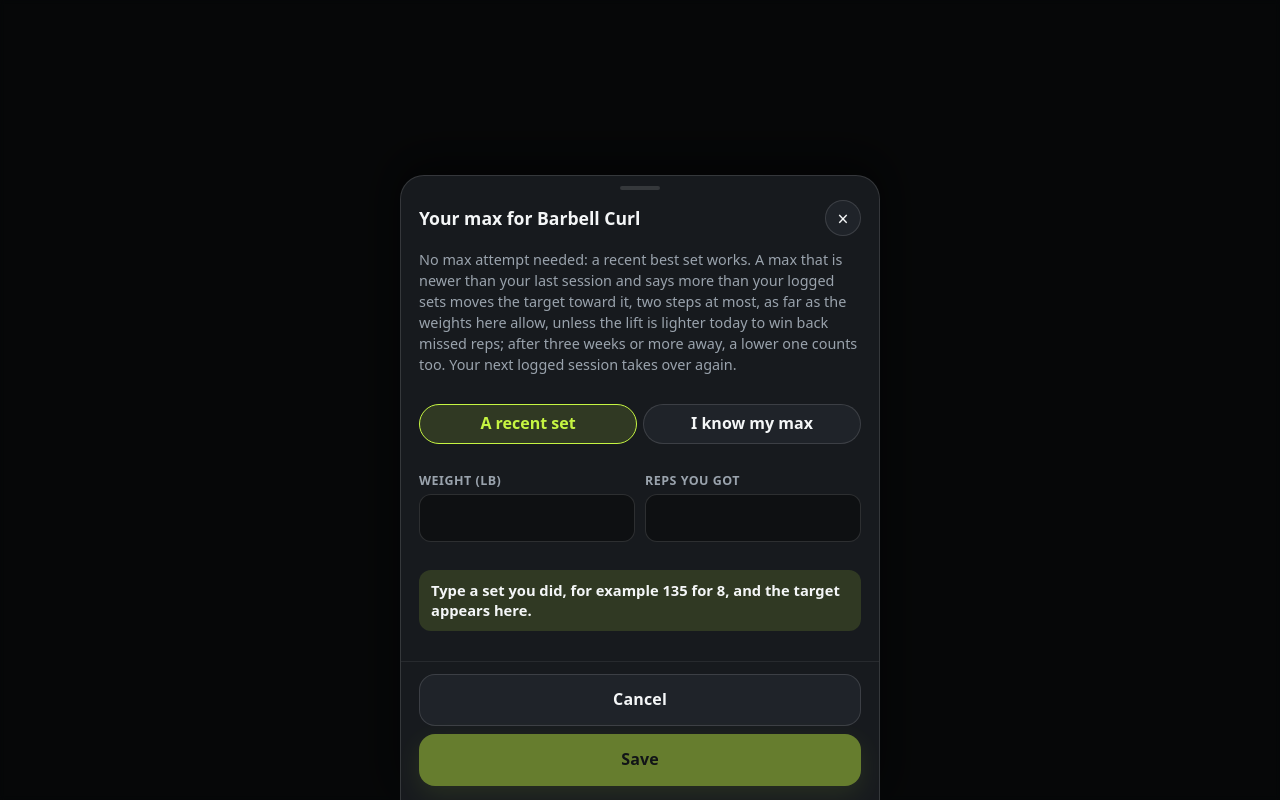
Test case: MaxSheet after the seventh pass of item 40 › asks about a max far above what the lifter's other lifts suggest, no bodyweight saved
The width and height of the screenshot is (1280, 800).
Click the radio button labelled "I know my max". click: (752, 424)
box: [643,404,861,444]
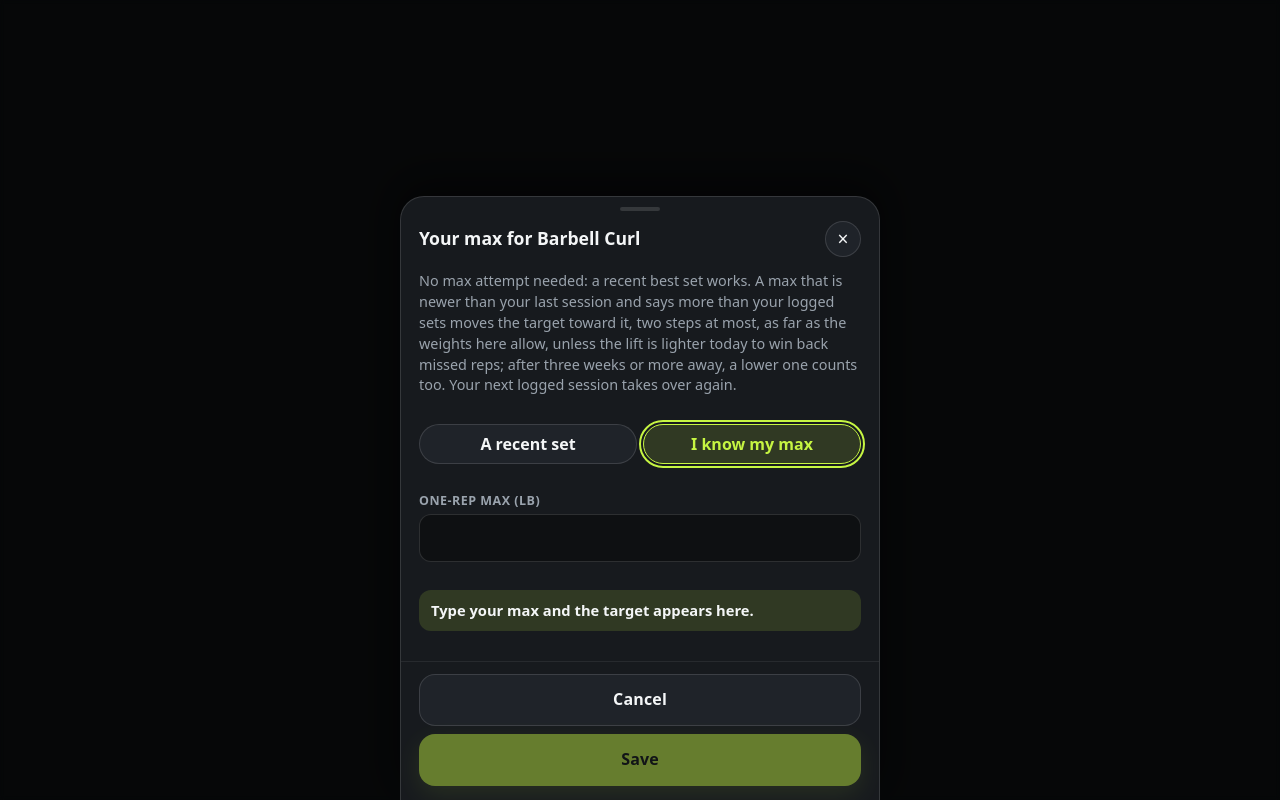
Type "840" into the number field with test id "max-value". click: (640, 538)
box: [419,514,861,562]
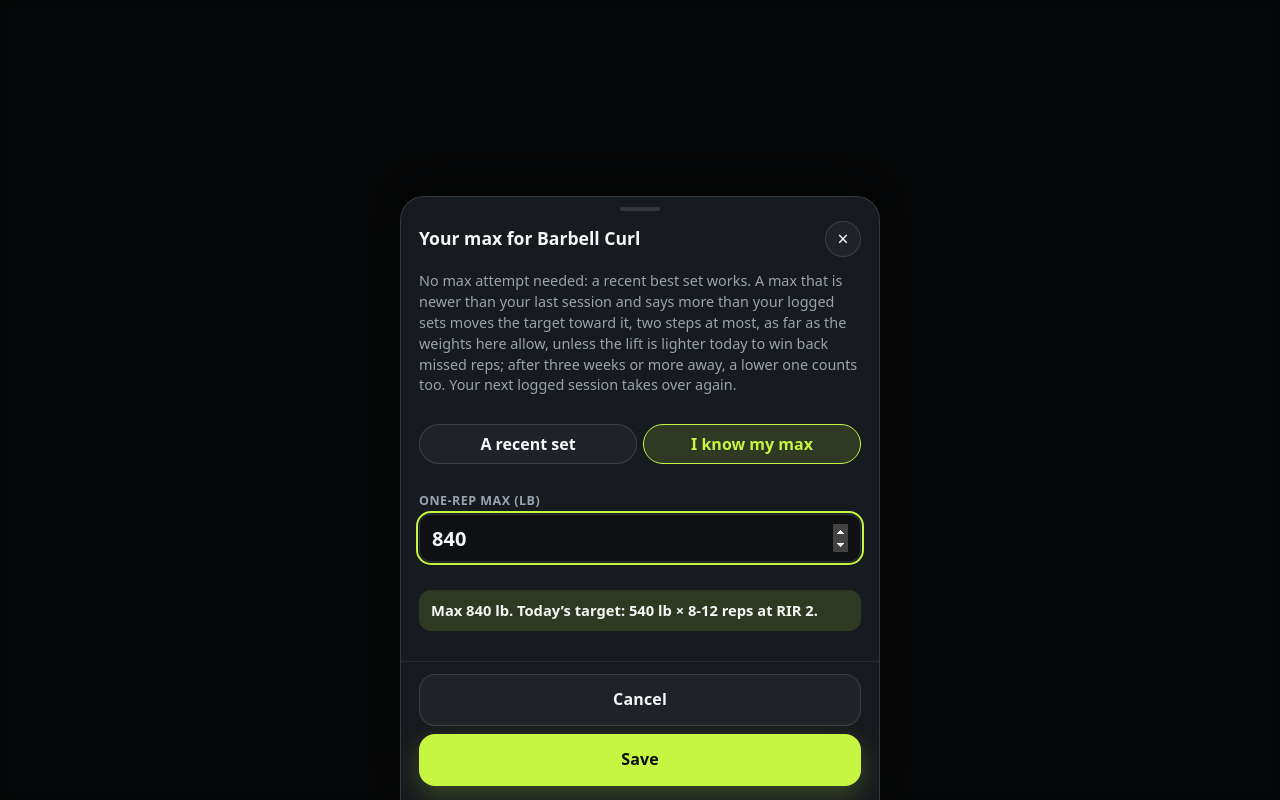
Click the button with test id "max-save". click: (640, 760)
box: [419,734,861,786]
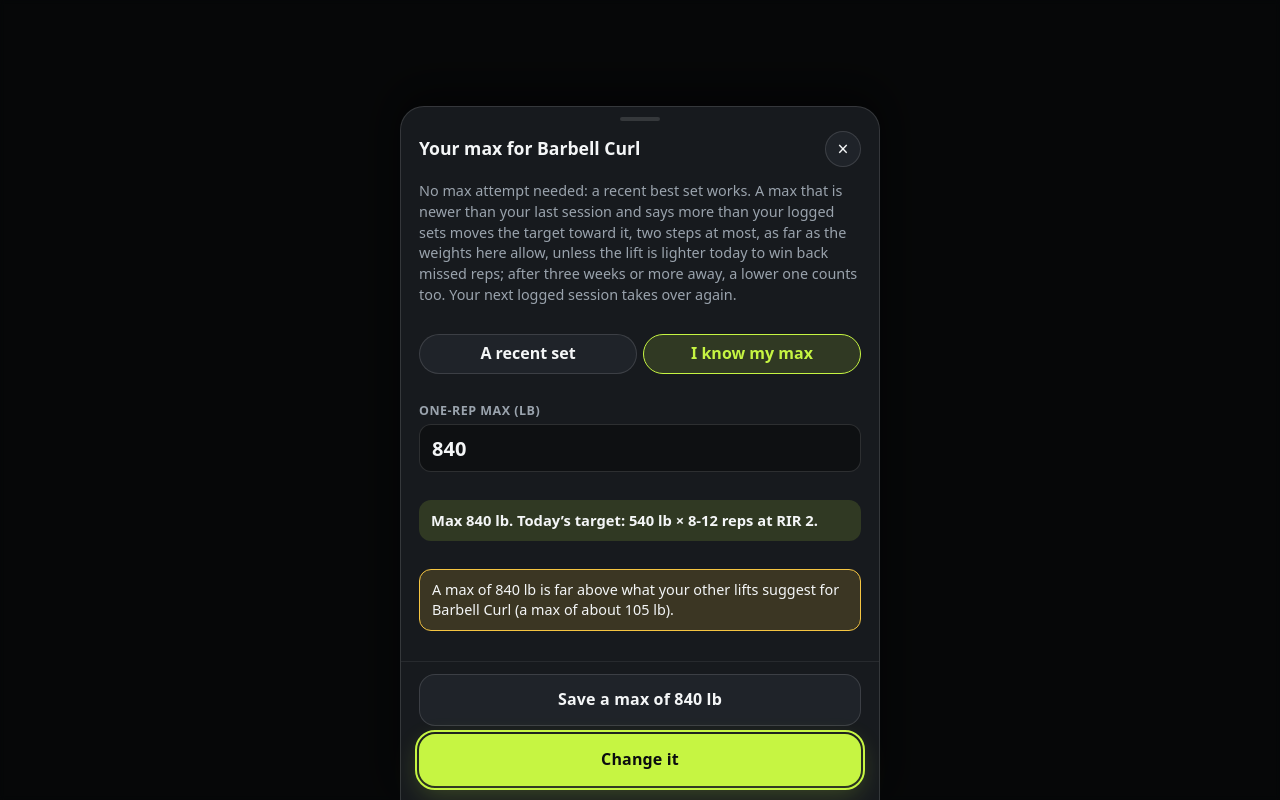
Result: the message shows "what your other lifts suggest for Barbell Curl" at [432,580,839,619]
